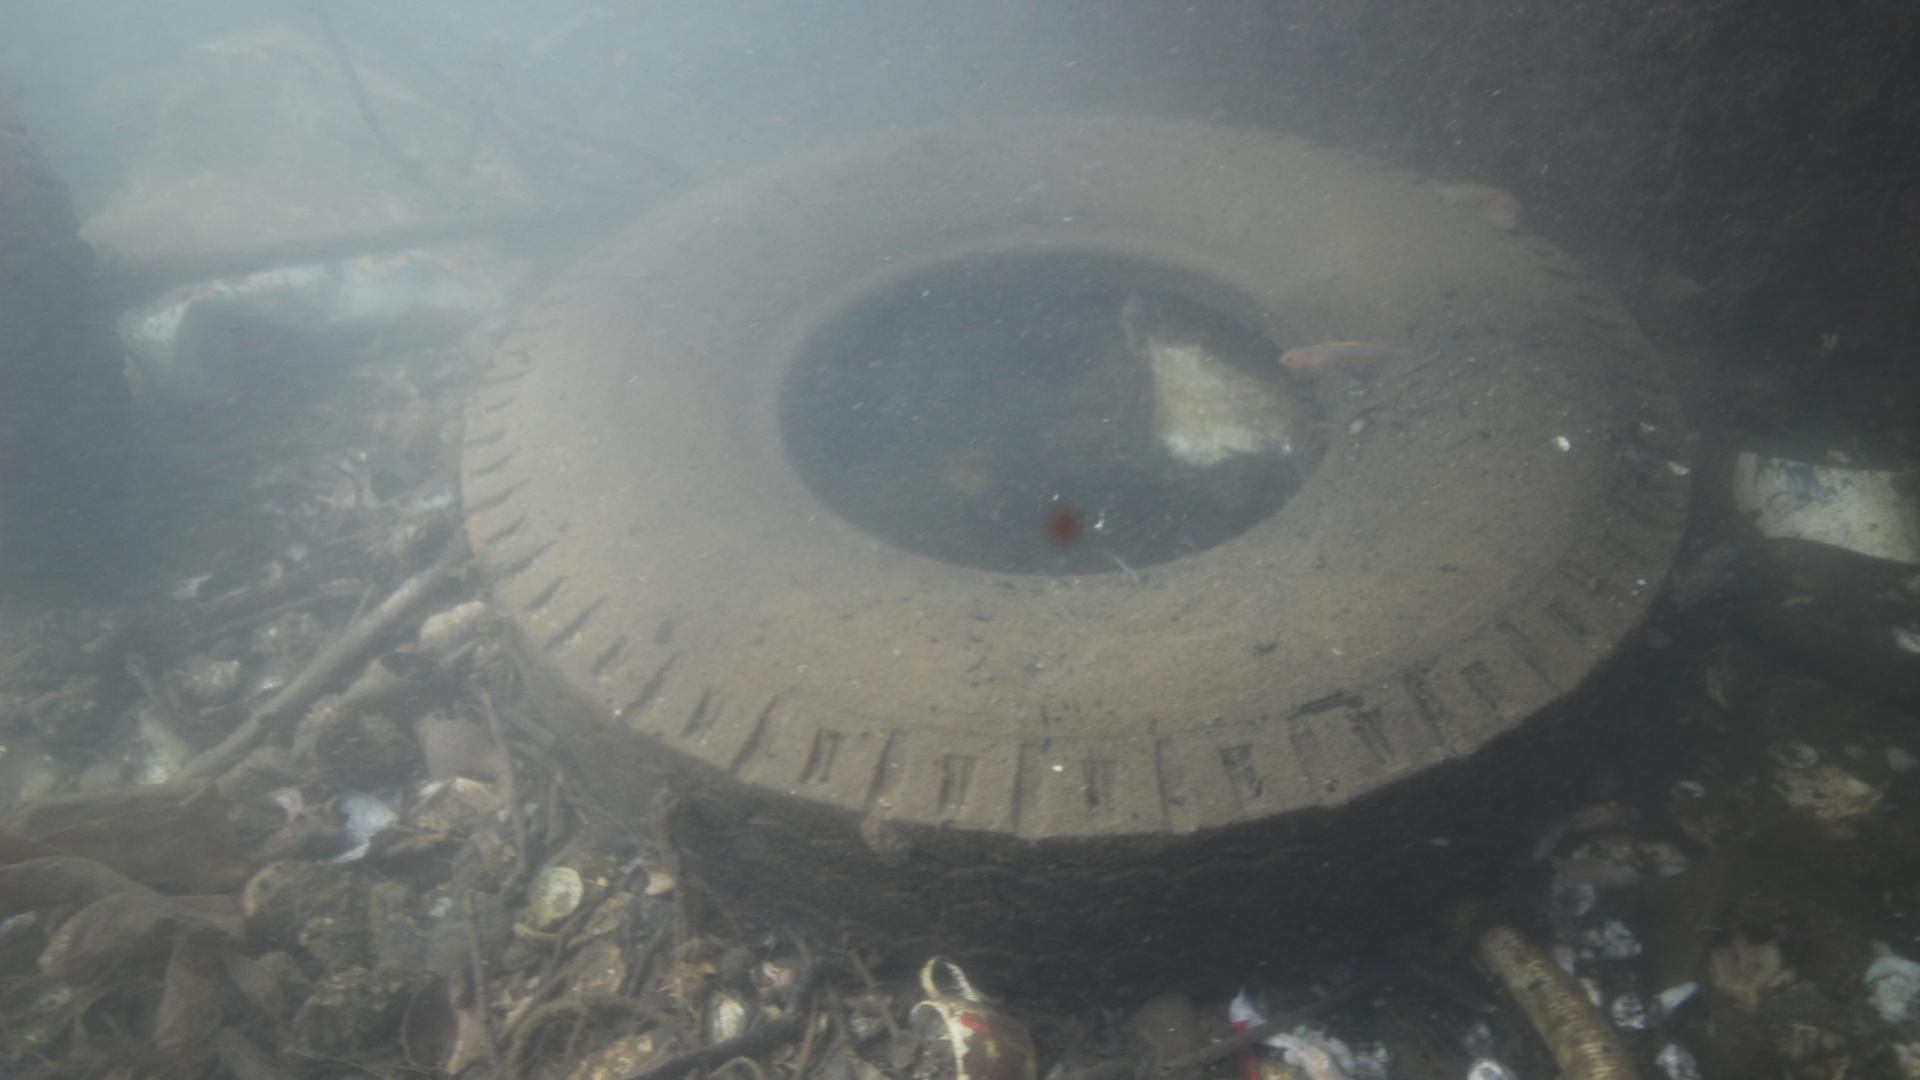tire: (456, 111, 1693, 1019)
